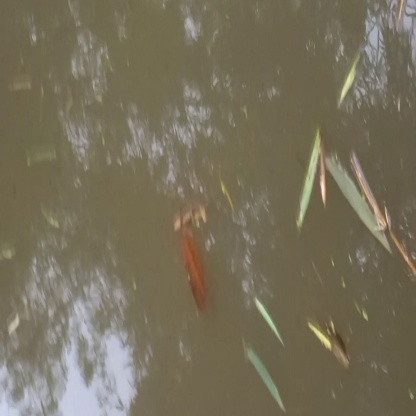leaf: (297, 129, 407, 266)
